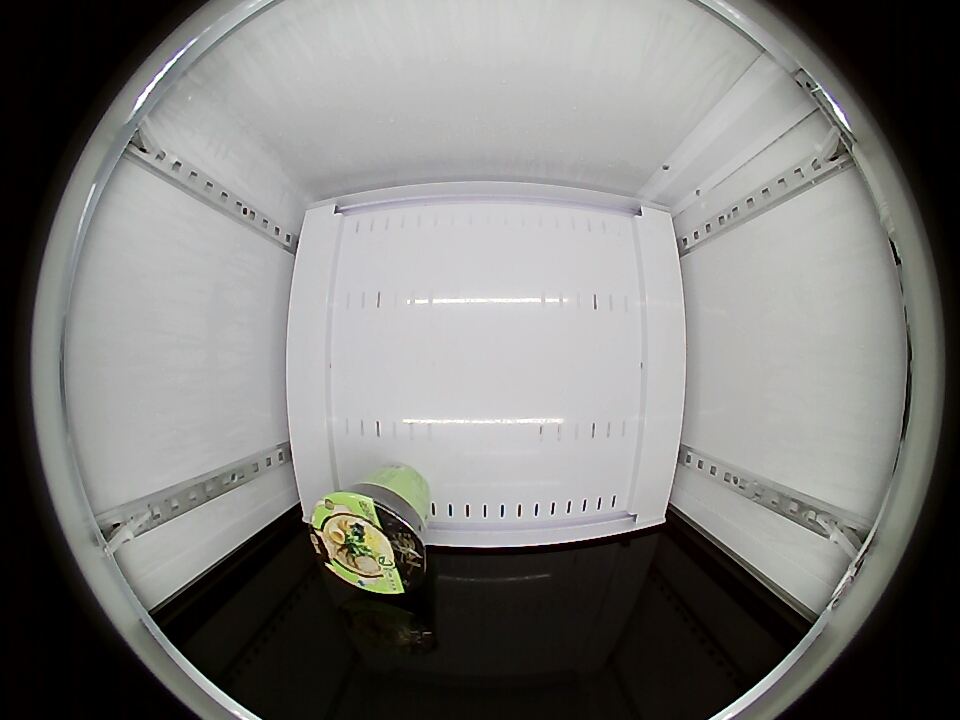tangdaren: (308, 483, 429, 595)
